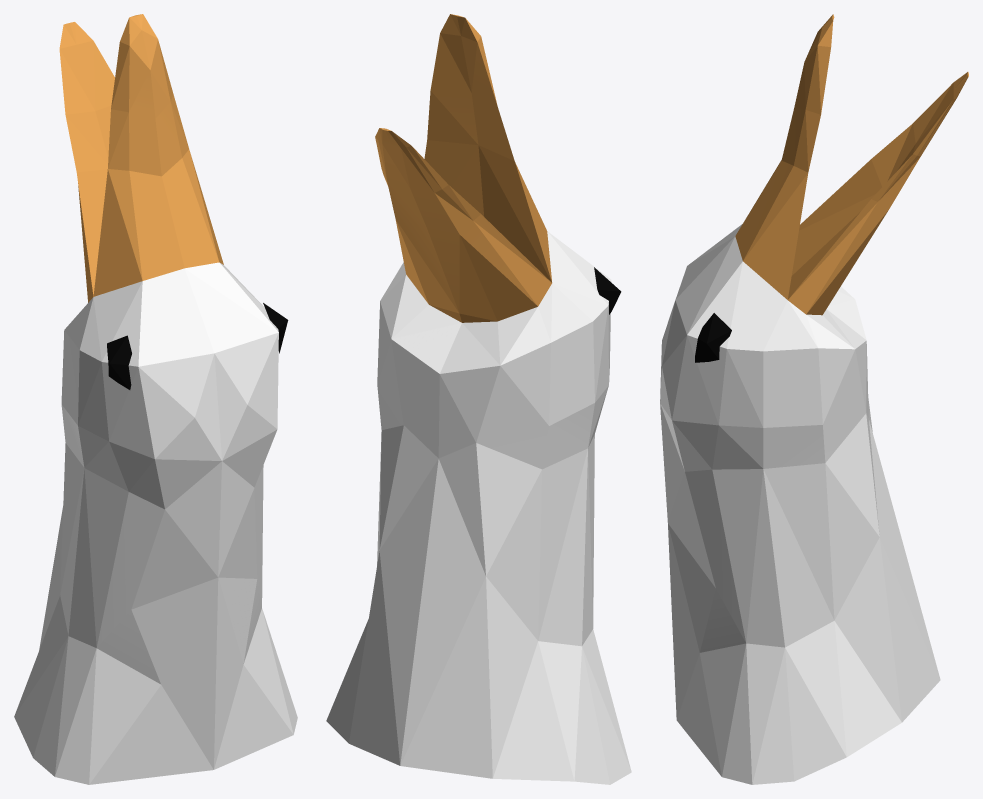
Rendered from AlbatrossHead.glb.
The picture shows the model from 3 angles, left to right: view 1: azimuth 30°, elevation 25°; view 2: azimuth 150°, elevation 25°; view 3: azimuth 270°, elevation 25°; orthographic projection. The views are drawn at different scales.
Visible parts, largest first — view 1: AlbatrossHead; view 2: AlbatrossHead; view 3: AlbatrossHead.
Boxes of the visible parts, x1,y1,x2,y2 form: AlbatrossHead: (14, 14, 297, 784); AlbatrossHead: (326, 14, 631, 784); AlbatrossHead: (660, 14, 968, 784).
Size of the model in its own units: 0.1549 by 0.4256 by 0.1679.
Materials: 1 (1 with a texture image).
